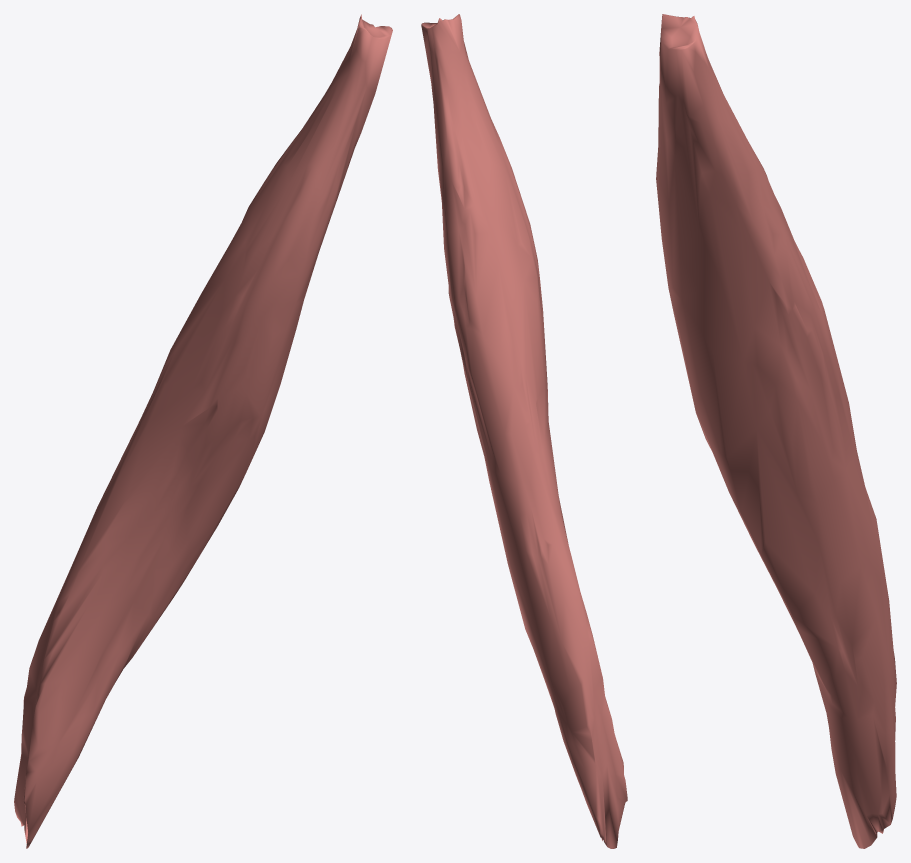
3 views of the same model, side by side, from view 1: azimuth 30°, elevation 25°; view 2: azimuth 150°, elevation 25°; view 3: azimuth 270°, elevation 25° (orthographic). The views are drawn at different scales.
Visible parts, largest first — view 1: ZA_355be994aa4e57ea; view 2: ZA_355be994aa4e57ea; view 3: ZA_355be994aa4e57ea.
Boxes of the visible parts, x1,y1,x2,y2 form: ZA_355be994aa4e57ea: [14, 14, 392, 848]; ZA_355be994aa4e57ea: [421, 14, 627, 848]; ZA_355be994aa4e57ea: [656, 14, 896, 848].
Size of the model in its own units: 0.0608 by 0.1587 by 0.035.
